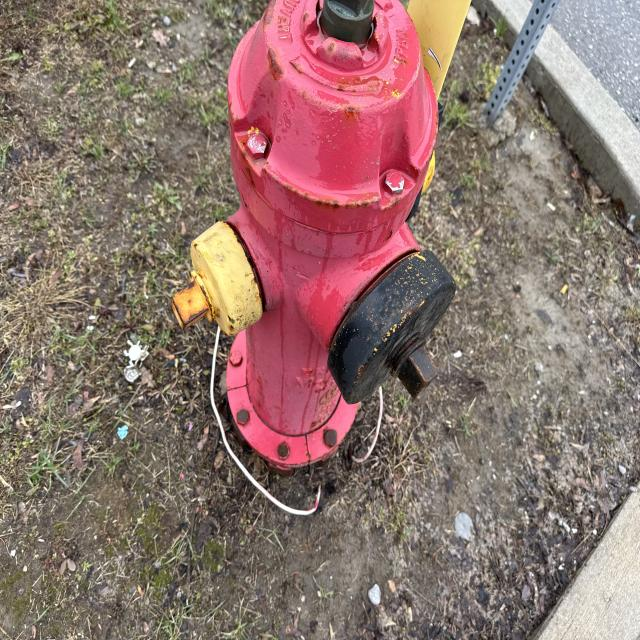Fire hydrant: (170, 0, 458, 477)
